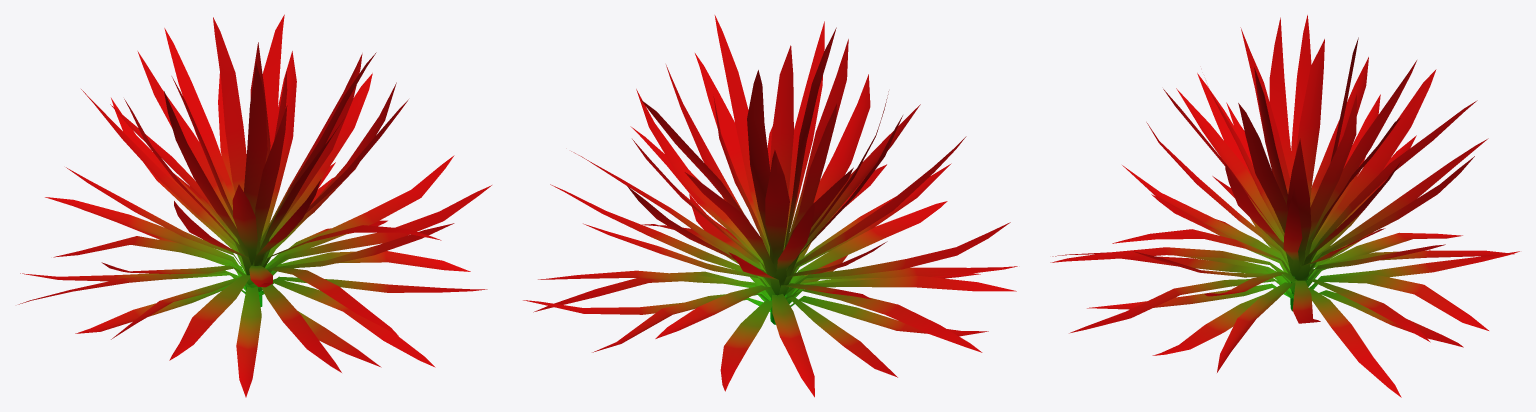
Rendered from SM_Bush02_LOD0.fbx.
The picture shows the model from 3 angles, left to right: view 1: azimuth 30°, elevation 25°; view 2: azimuth 150°, elevation 25°; view 3: azimuth 270°, elevation 25°; orthographic projection. The views are drawn at different scales.
Visible parts, largest first — view 1: _x9kj_Var12_LOD4; view 2: _x9kj_Var12_LOD4; view 3: _x9kj_Var12_LOD4.
Boxes of the visible parts, x1,y1,x2,y2 form: _x9kj_Var12_LOD4: (18,14,491,397); _x9kj_Var12_LOD4: (523,15,1017,397); _x9kj_Var12_LOD4: (1050,15,1519,397).
Bounding box in the file's own units: 93 × 55.92 × 89.22.
